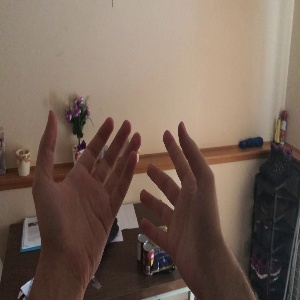hand: (33, 110, 142, 265), (141, 121, 219, 282)
